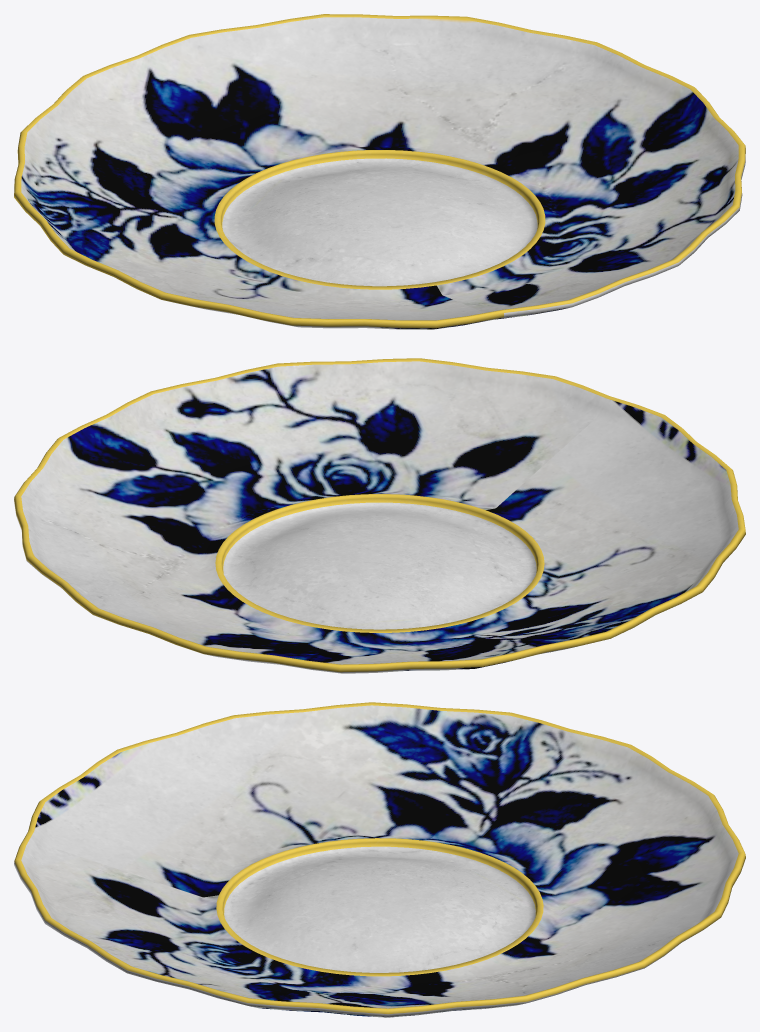
The model's file is plate.fbx.
3 renders of one model, top to bottom at view 1: azimuth 30°, elevation 25°; view 2: azimuth 150°, elevation 25°; view 3: azimuth 270°, elevation 25°, orthographic.
Visible parts, largest first — view 1: cup.001; view 2: cup.001; view 3: cup.001.
Part boxes in pixels (x1,y1,x2,y2): cup.001: (14,14,745,329); cup.001: (14,358,745,673); cup.001: (14,702,745,1017).
Size of the model in its own units: 64.8 by 6.37 by 64.8.
